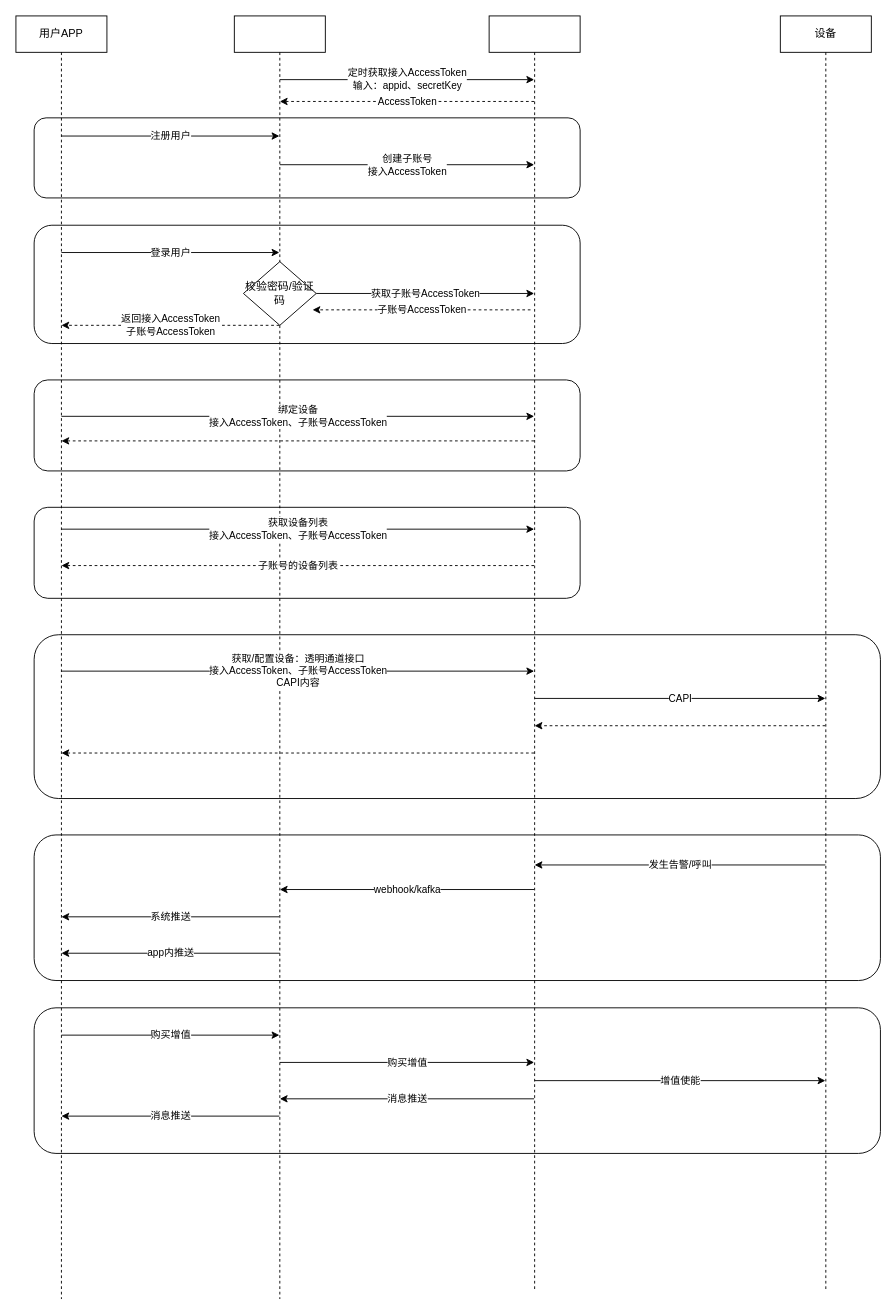
This 896x1315 diagram has some shape labels left out. The shapes that lost their labels are listed below. From the top down, each one's box as (x1, y1, x2, y2) in pixels, then its label:
(233, 15, 325, 1299): 用户云
(488, 15, 580, 1290): 宇视云
